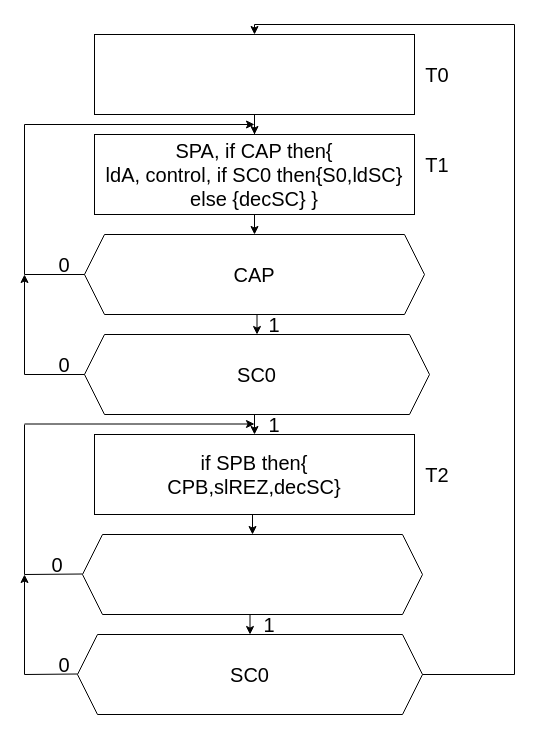
Image size: 533x732. Some labels were removed from this diagram. The centre of each missing label's shape, as x and y in pixels:
"clCOUNT, clREZ, clMAX, ldSC, clA" belongs at [254,74].
"SPB" belongs at [252,574].
